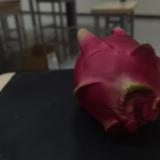pitaya: (75, 27, 160, 134)
